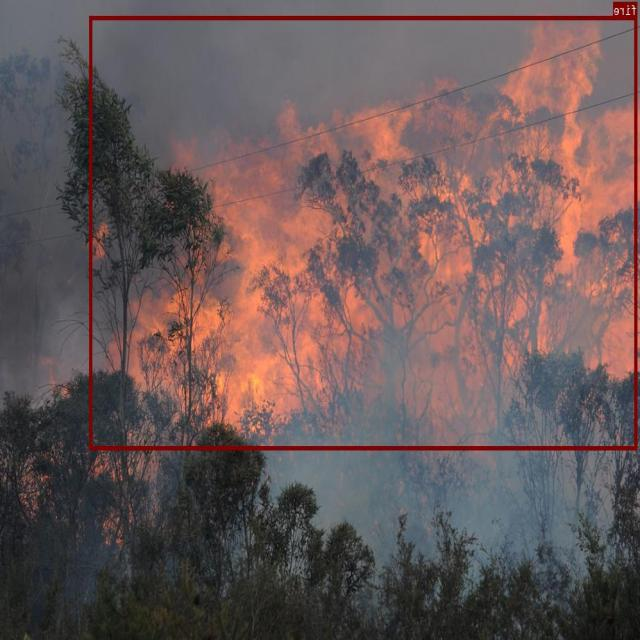fire: (90, 15, 638, 449)
